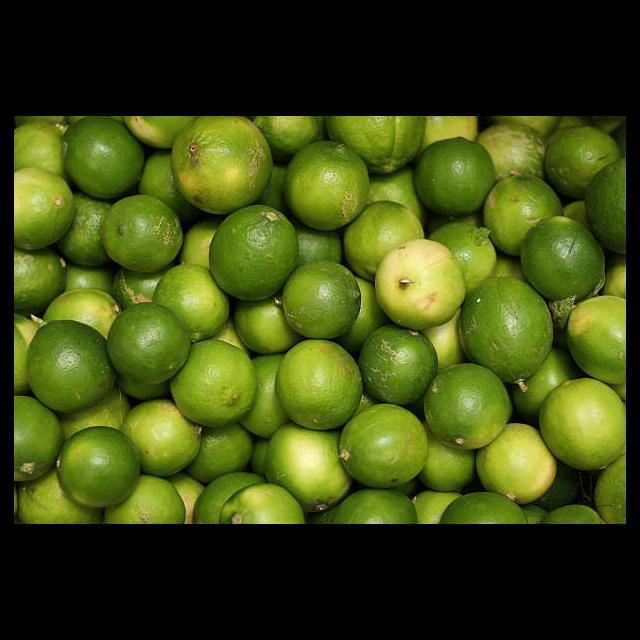lime: (166, 116, 275, 218), (332, 404, 432, 501), (372, 237, 470, 334), (274, 341, 361, 433), (171, 337, 258, 428), (284, 141, 371, 231), (55, 427, 138, 512), (324, 116, 431, 172), (15, 393, 63, 484)
